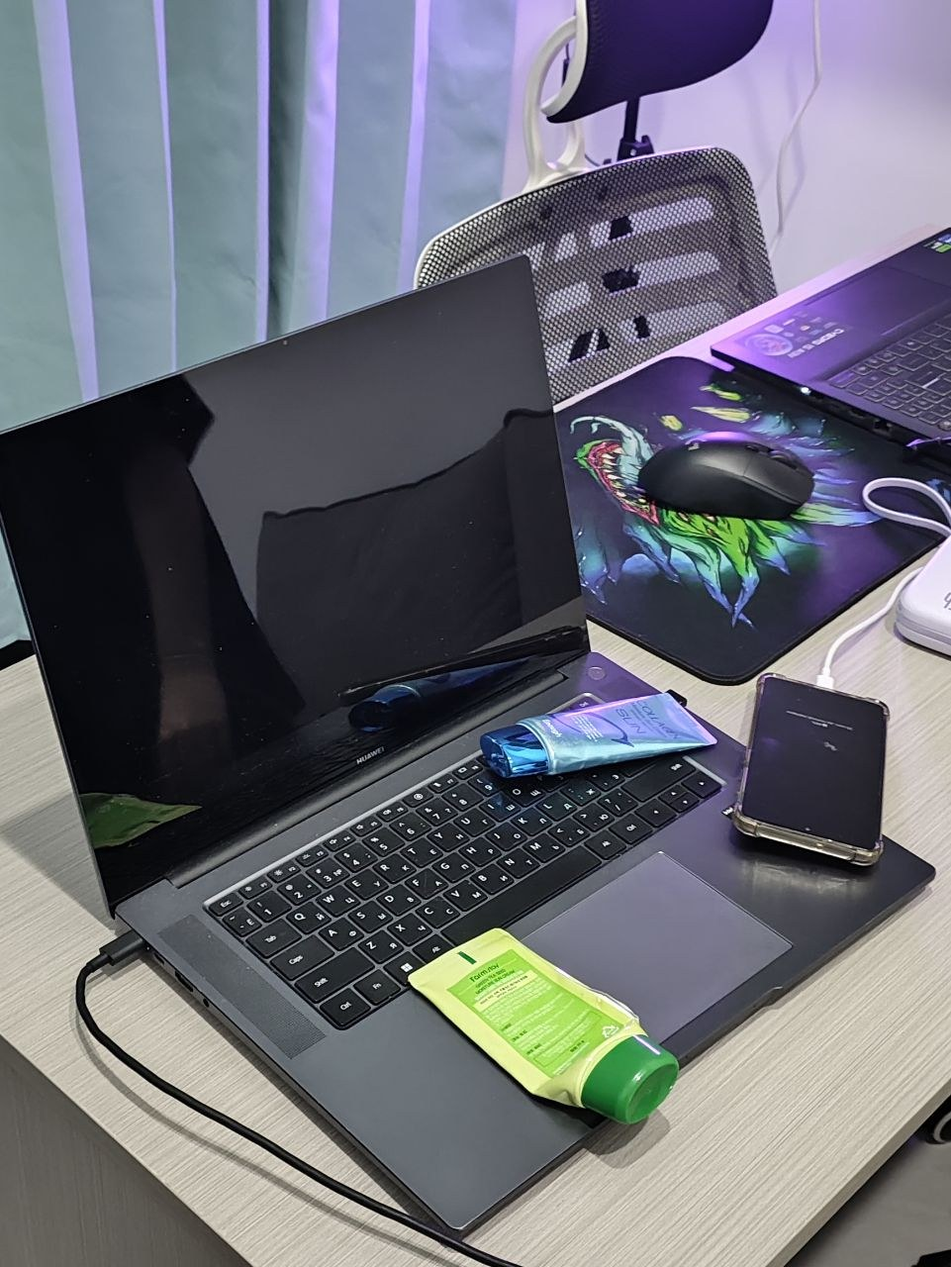cell phone: (728, 672, 889, 868)
laptop: (1, 252, 937, 1238), (710, 224, 950, 459)
